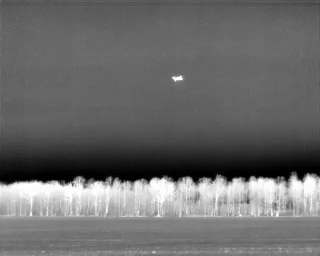DRONE: (168, 71, 187, 86)
